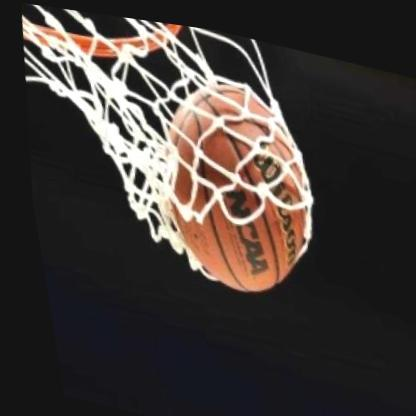basketball: (129, 52, 334, 309)
